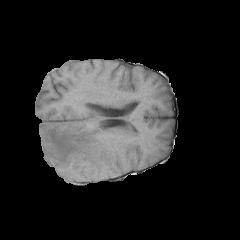glioma: (39, 123, 122, 180)
